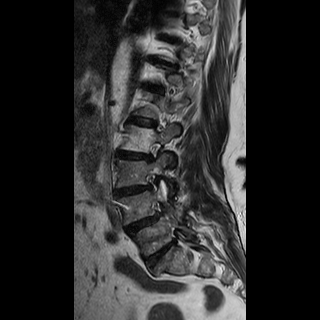RFS0: (142, 138, 166, 166)
RFS1: (139, 167, 166, 195)
